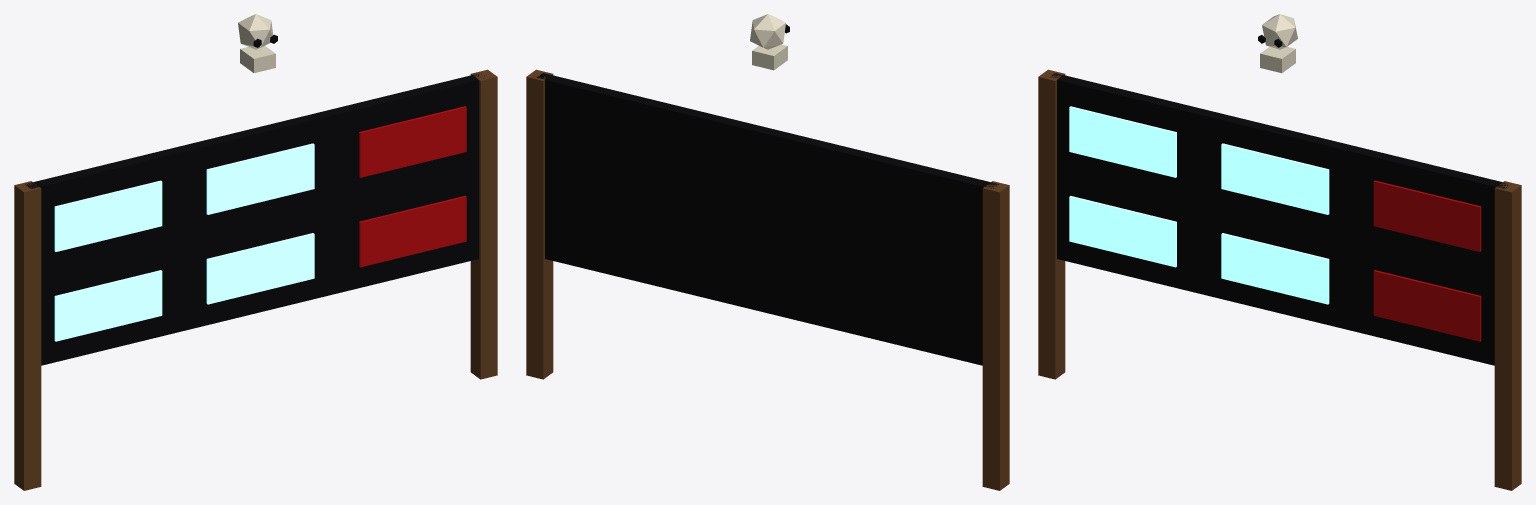
Rendered from Prop_OR_OddsBoard_18.glb.
3 views of the same model, side by side, from view 1: azimuth 30°, elevation 25°; view 2: azimuth 150°, elevation 25°; view 3: azimuth 330°, elevation 25° (orthographic).
Visible parts, largest first — view 1: Prop_OR_OddsBoard_18; view 2: Prop_OR_OddsBoard_18; view 3: Prop_OR_OddsBoard_18.
Boxes of the visible parts, bbox=[...] form: Prop_OR_OddsBoard_18: bbox=[14, 14, 497, 490]; Prop_OR_OddsBoard_18: bbox=[526, 14, 1009, 490]; Prop_OR_OddsBoard_18: bbox=[1038, 14, 1521, 490].
Size of the model in its own units: 4.15 by 3.48 by 0.3057.
